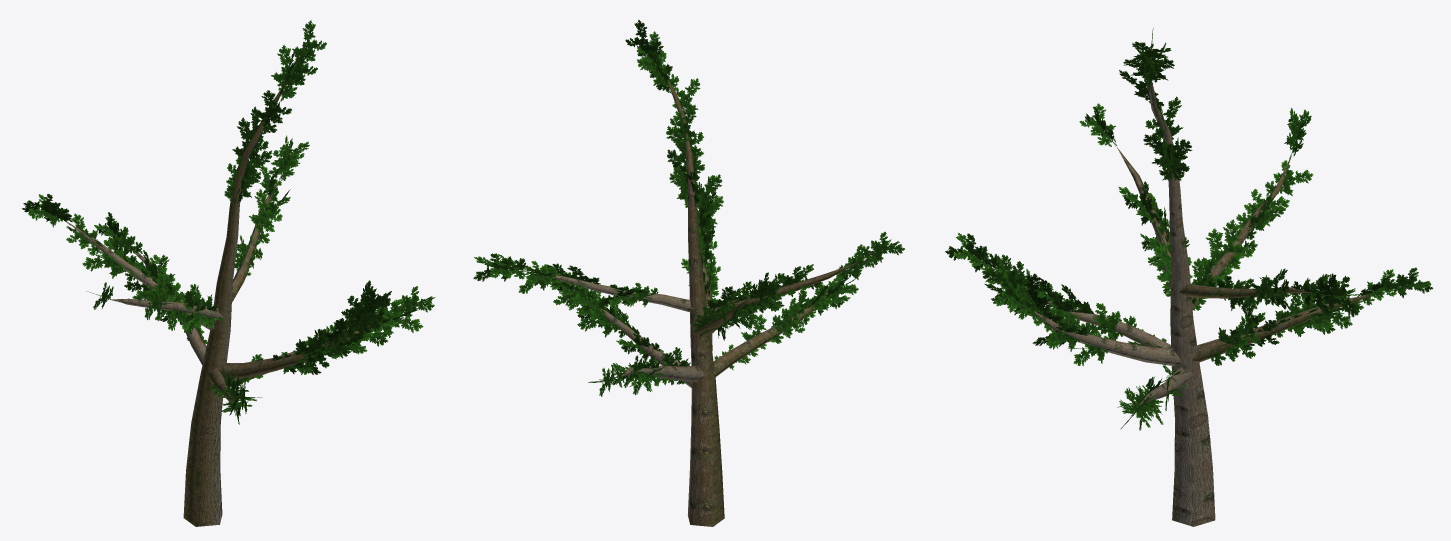
Rendered from palm.glb.
3 views of the same model, side by side, from view 1: azimuth 30°, elevation 25°; view 2: azimuth 150°, elevation 25°; view 3: azimuth 270°, elevation 25° (orthographic). The views are drawn at different scales.
Bounding box in the file's own units: 3.48 × 4.43 × 3.66.
Materials: 2 (2 with a texture image).
